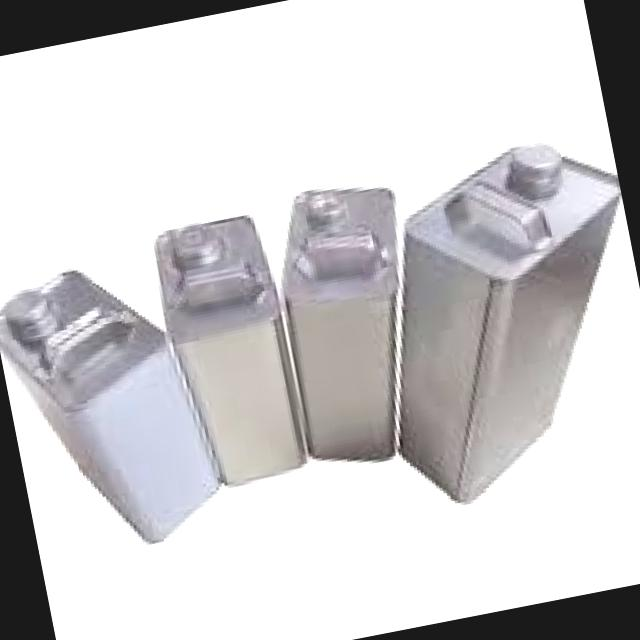kim_loai: (402, 152, 623, 502), (0, 271, 221, 539), (156, 215, 308, 483), (283, 191, 405, 458)
